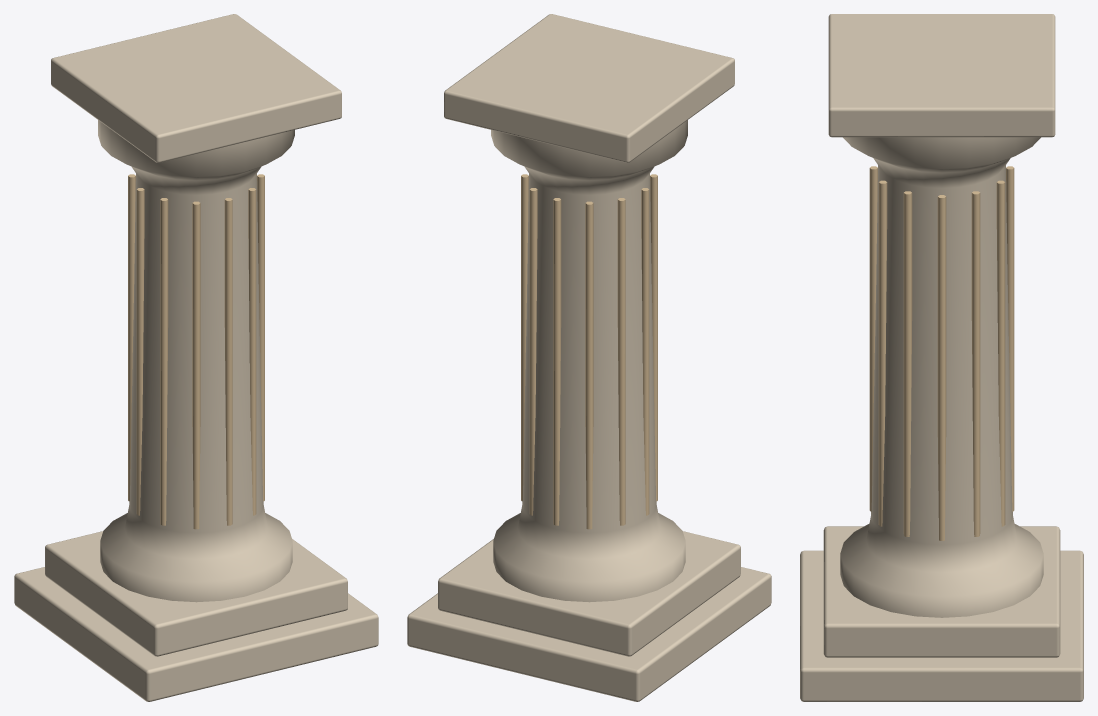
Rendered from column_classic.glb.
3 views of the same model, side by side, from view 1: azimuth 30°, elevation 25°; view 2: azimuth 150°, elevation 25°; view 3: azimuth 270°, elevation 25° (orthographic). The views are drawn at different scales.
Parts seen in each view (by area): view 1: column_classic; view 2: column_classic; view 3: column_classic.
Boxes of the visible parts, bbox=[...] form: column_classic: bbox=[14, 14, 378, 701]; column_classic: bbox=[407, 14, 771, 701]; column_classic: bbox=[800, 14, 1083, 701].
Bounding box in the file's own units: 1.2 × 2.72 × 1.2.
